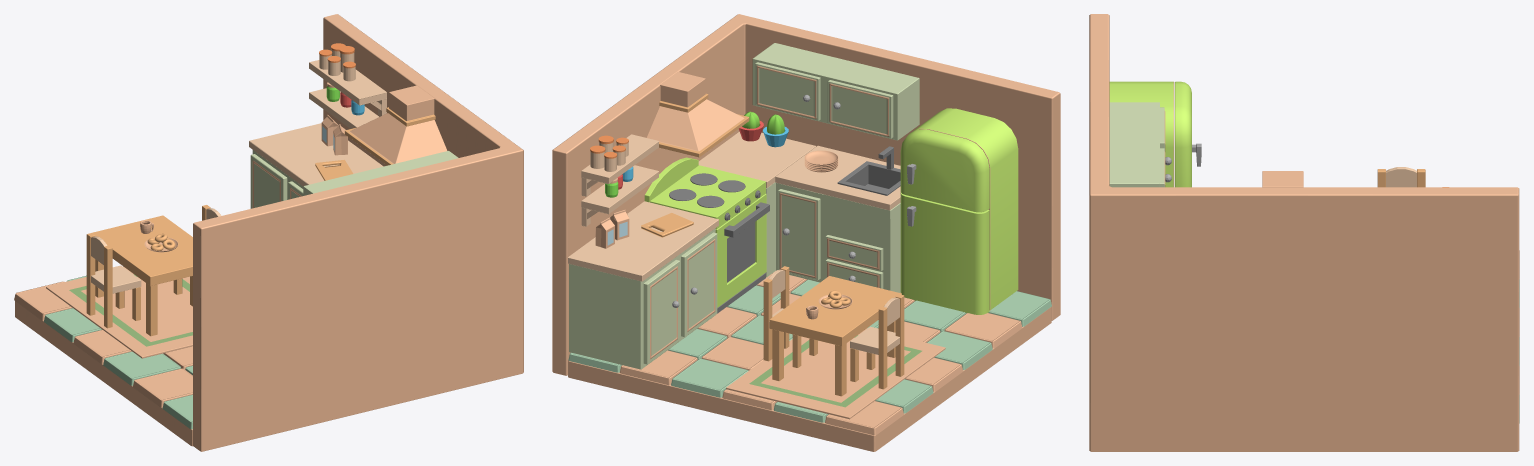
Rendered from Cocina.fbx.
3 renders of one model, left to right at view 1: azimuth 30°, elevation 25°; view 2: azimuth 150°, elevation 25°; view 3: azimuth 270°, elevation 25°, orthographic. The views are drawn at different scales.
Parts seen in each view (by area): view 1: Wall, Floor tile, Counter, Carpet, Table, Hood, Floor, Chair.001, Wall shelf, Hang shelf.001, Wood jar, Hang shelf (+2 smaller); view 2: Wall, Fridge, Floor tile, Counter, Counter with sink, Wall shelf, Stove, Floor, Carpet, Table, Hood, Counter corner (+10 smaller); view 3: Wall, Wall shelf, Fridge, Chair.001, Hood.
Part boxes in pixels (x1,y1,x2,y2): Wall: [193, 14, 523, 451]; Floor tile: [14, 266, 192, 429]; Counter: [249, 123, 383, 208]; Carpet: [46, 267, 192, 358]; Table: [92, 215, 192, 336]; Hood: [344, 85, 447, 165]; Floor: [15, 301, 192, 446]; Chair.001: [86, 233, 141, 328]; Wall shelf: [303, 151, 458, 195]; Hang shelf.001: [309, 60, 386, 116]; Wood jar: [319, 43, 355, 81]; Hang shelf: [309, 88, 378, 128]; Wall: [552, 14, 1060, 375]; Fridge: [900, 108, 1018, 314]; Floor tile: [568, 271, 1051, 435]; Counter: [568, 201, 718, 369]; Counter with sink: [775, 145, 900, 292]; Wall shelf: [752, 43, 919, 140]; Stove: [644, 157, 769, 313]; Floor: [568, 307, 1051, 451]; Carpet: [726, 328, 945, 419]; Table: [769, 276, 901, 396]; Hood: [646, 72, 749, 157]; Counter corner: [698, 132, 815, 277]; Wall: [1089, 14, 1519, 451]; Wall shelf: [1109, 102, 1171, 187]; Fridge: [1109, 81, 1201, 187]; Chair.001: [1377, 167, 1425, 187]; Hood: [1262, 171, 1303, 187].
Bounding box in the file's own units: 758 × 501 × 757.
